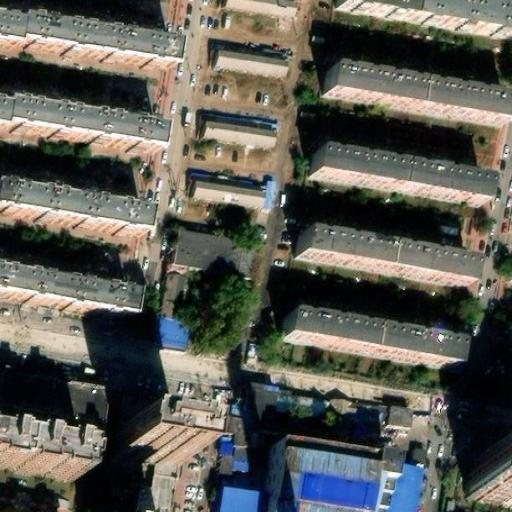building: (318, 64, 496, 118), (302, 146, 476, 199), (287, 228, 463, 280), (274, 306, 434, 359), (0, 90, 160, 136), (254, 448, 361, 512), (0, 376, 101, 429), (166, 230, 255, 279), (0, 432, 71, 474), (108, 434, 172, 477), (331, 400, 379, 455), (113, 397, 178, 435), (462, 456, 512, 501), (206, 50, 283, 79), (199, 120, 272, 150), (188, 181, 259, 207), (155, 282, 183, 347), (213, 417, 242, 476), (377, 471, 415, 512), (220, 0, 291, 21), (375, 406, 410, 437), (269, 392, 308, 414), (210, 497, 255, 512)
